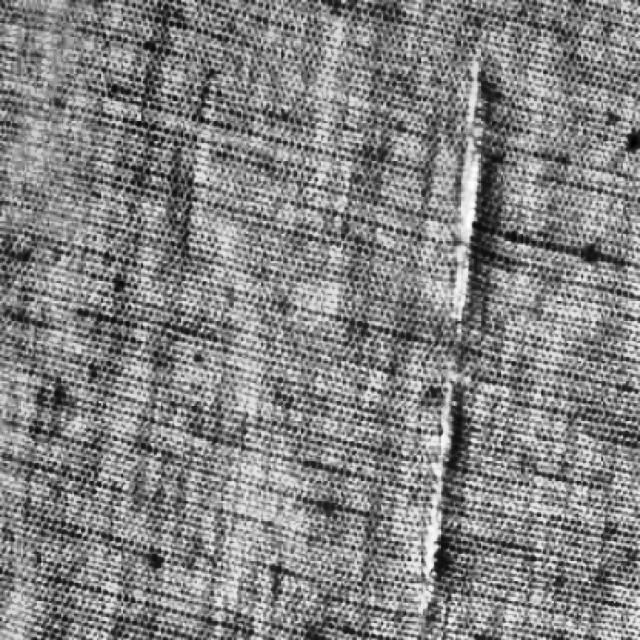thread_error: (376, 35, 506, 640)
